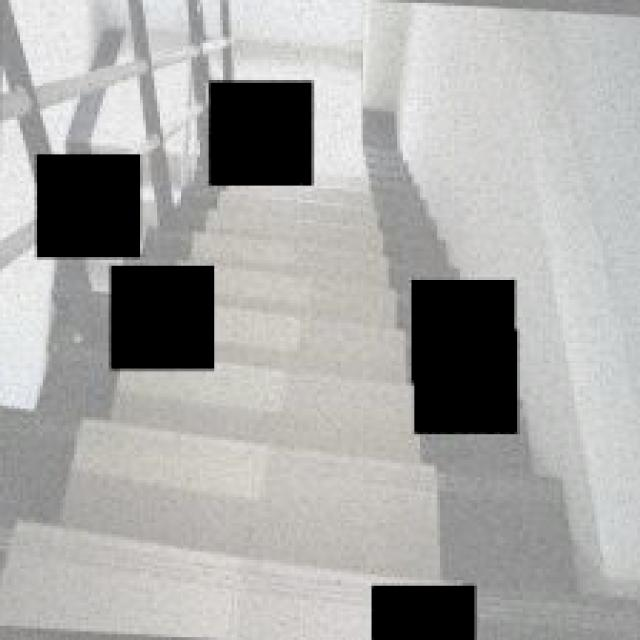downstair: (221, 210, 407, 578)
